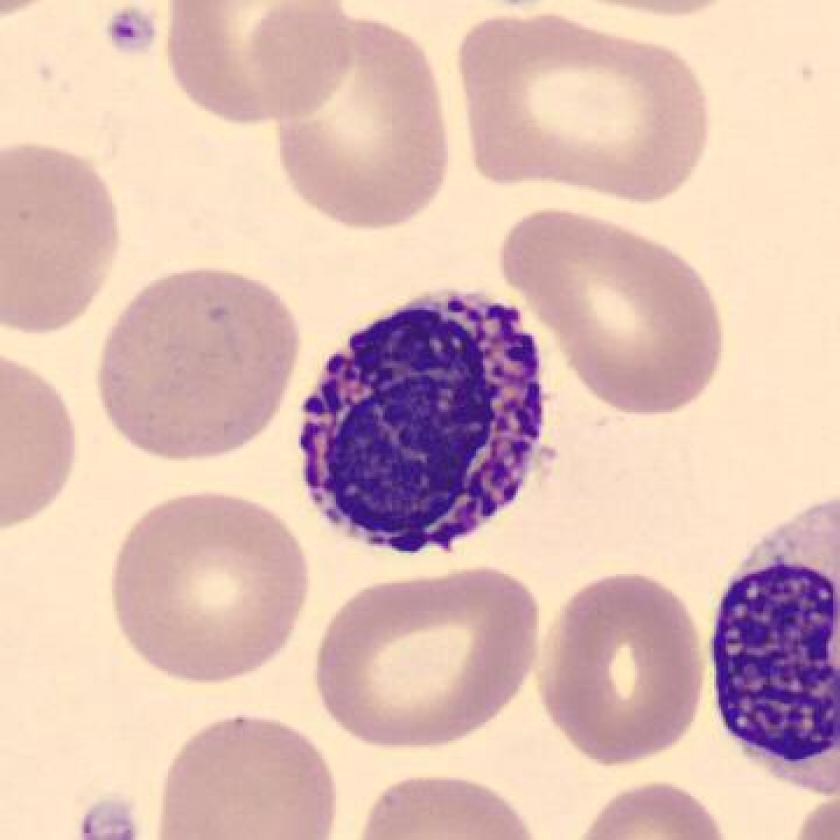basophil: (297, 281, 561, 566), (698, 526, 840, 790)
